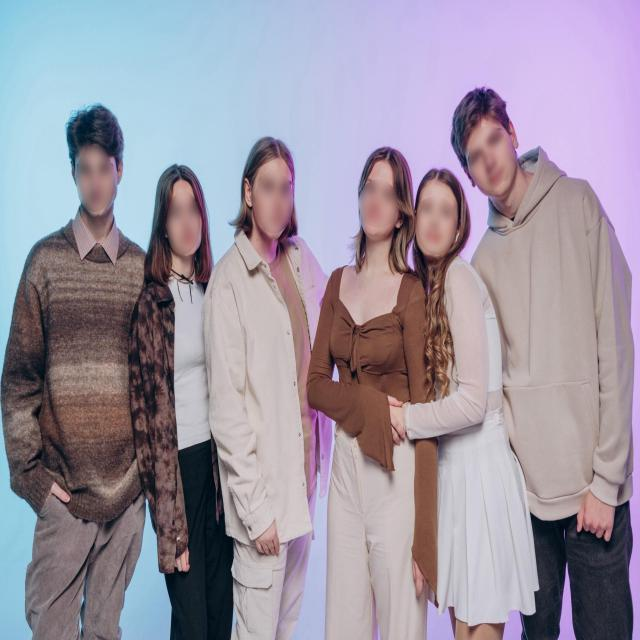Person: (458, 71, 636, 640), (3, 92, 154, 640), (205, 115, 345, 640), (318, 141, 422, 640), (132, 150, 230, 640), (412, 160, 492, 640)
